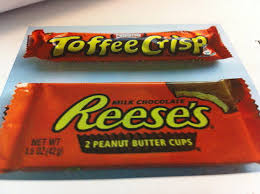reese: (4, 80, 257, 169)
